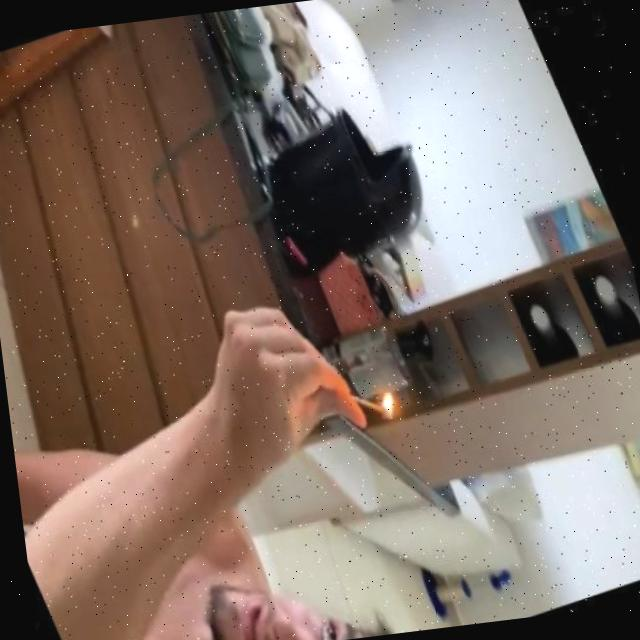fire: (378, 386, 410, 423)
